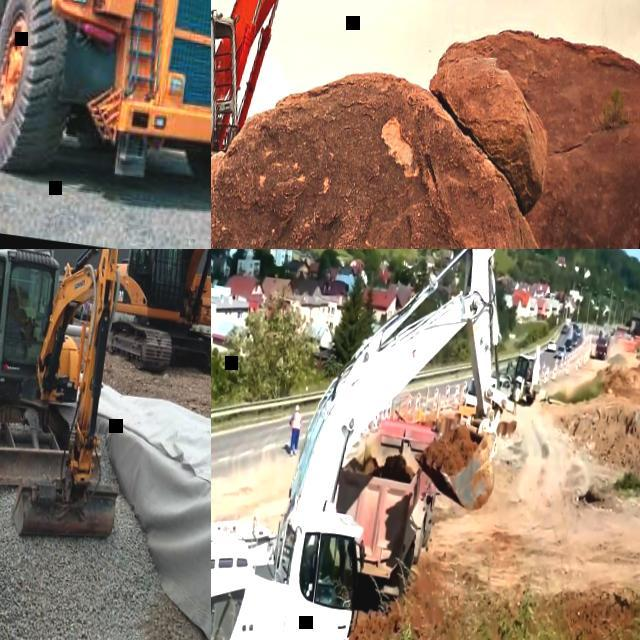helmet: (295, 404, 299, 409)
vest: (290, 412, 302, 429), (514, 386, 520, 398)
